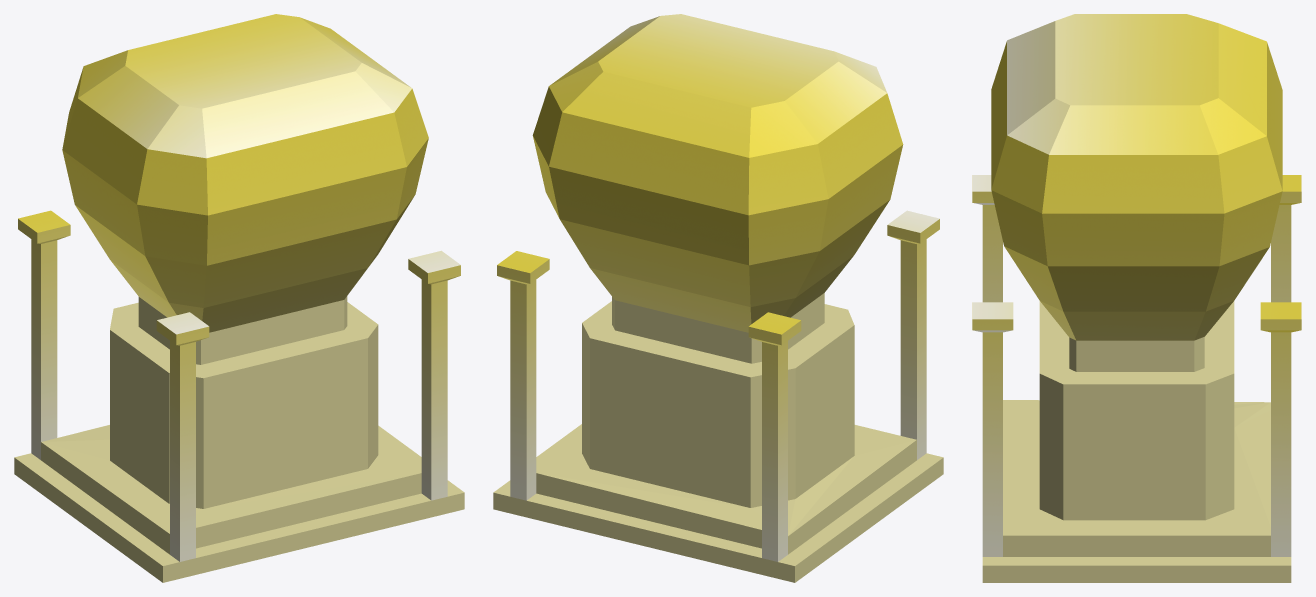
Rendered from Taj Mahal - My Version.fbx.
The picture shows the model from 3 angles, left to right: view 1: azimuth 30°, elevation 25°; view 2: azimuth 150°, elevation 25°; view 3: azimuth 270°, elevation 25°; orthographic projection. The views are drawn at different scales.
Parts seen in each view (by area): view 1: Raj Chickahal; view 2: Raj Chickahal; view 3: Raj Chickahal.
Boxes of the visible parts, box(x1,y1,x2,y2) form: Raj Chickahal: box(14, 14, 464, 582); Raj Chickahal: box(493, 14, 943, 582); Raj Chickahal: box(972, 14, 1301, 582).
Bounding box in the file's own units: 39.33 × 53.61 × 35.77.
